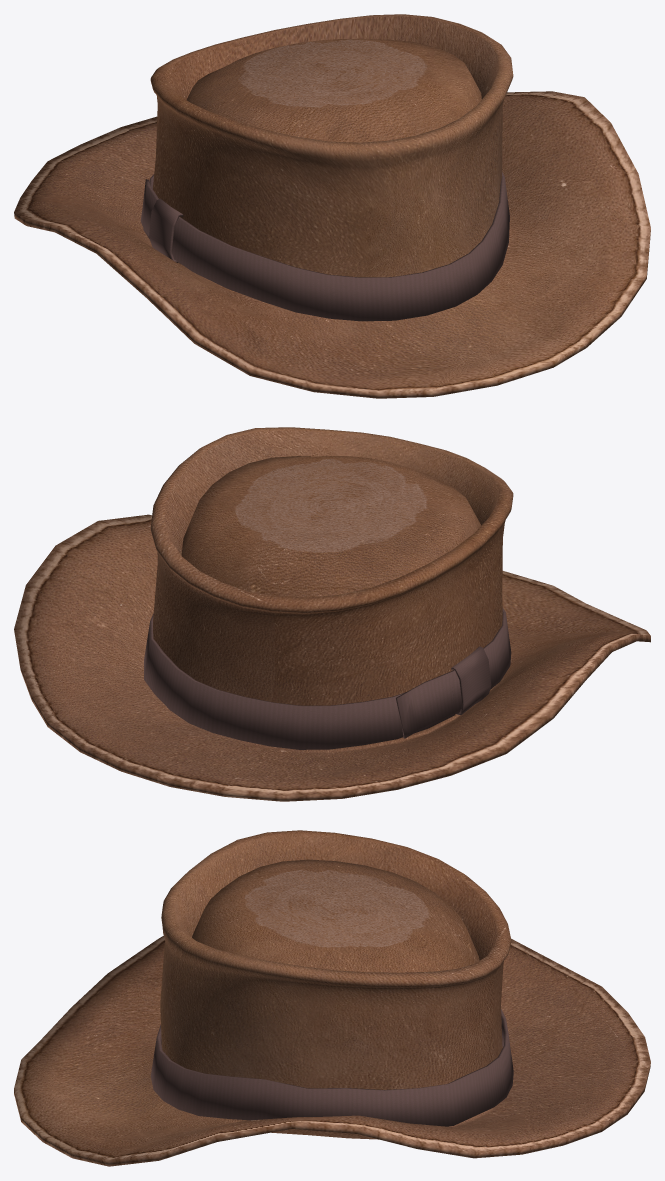
The model's file is hat_1024.glb.
The picture shows the model from 3 angles, top to bottom: view 1: azimuth 30°, elevation 25°; view 2: azimuth 150°, elevation 25°; view 3: azimuth 270°, elevation 25°; orthographic projection. The views are drawn at different scales.
Visible parts, largest first — view 1: Baked_1024; view 2: Baked_1024; view 3: Baked_1024.
Boxes of the visible parts, x1=… form: Baked_1024: x1=14, y1=14, x2=650, y2=398; Baked_1024: x1=14, y1=427, x2=650, y2=801; Baked_1024: x1=14, y1=830, x2=650, y2=1166.
Bounding box in the file's own units: 0.6624 × 0.2404 × 0.7077.
Materials: 1 (1 with a texture image).
